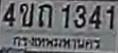1: (106, 4, 114, 28), (61, 4, 69, 27)
3: (73, 4, 85, 27)
4: (88, 4, 100, 28), (2, 2, 14, 26)
A02: (19, 2, 33, 26)
A22: (37, 3, 52, 27)
BKK: (12, 34, 102, 50)
